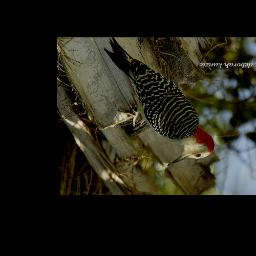Woodpecker: (102, 38, 218, 165)
